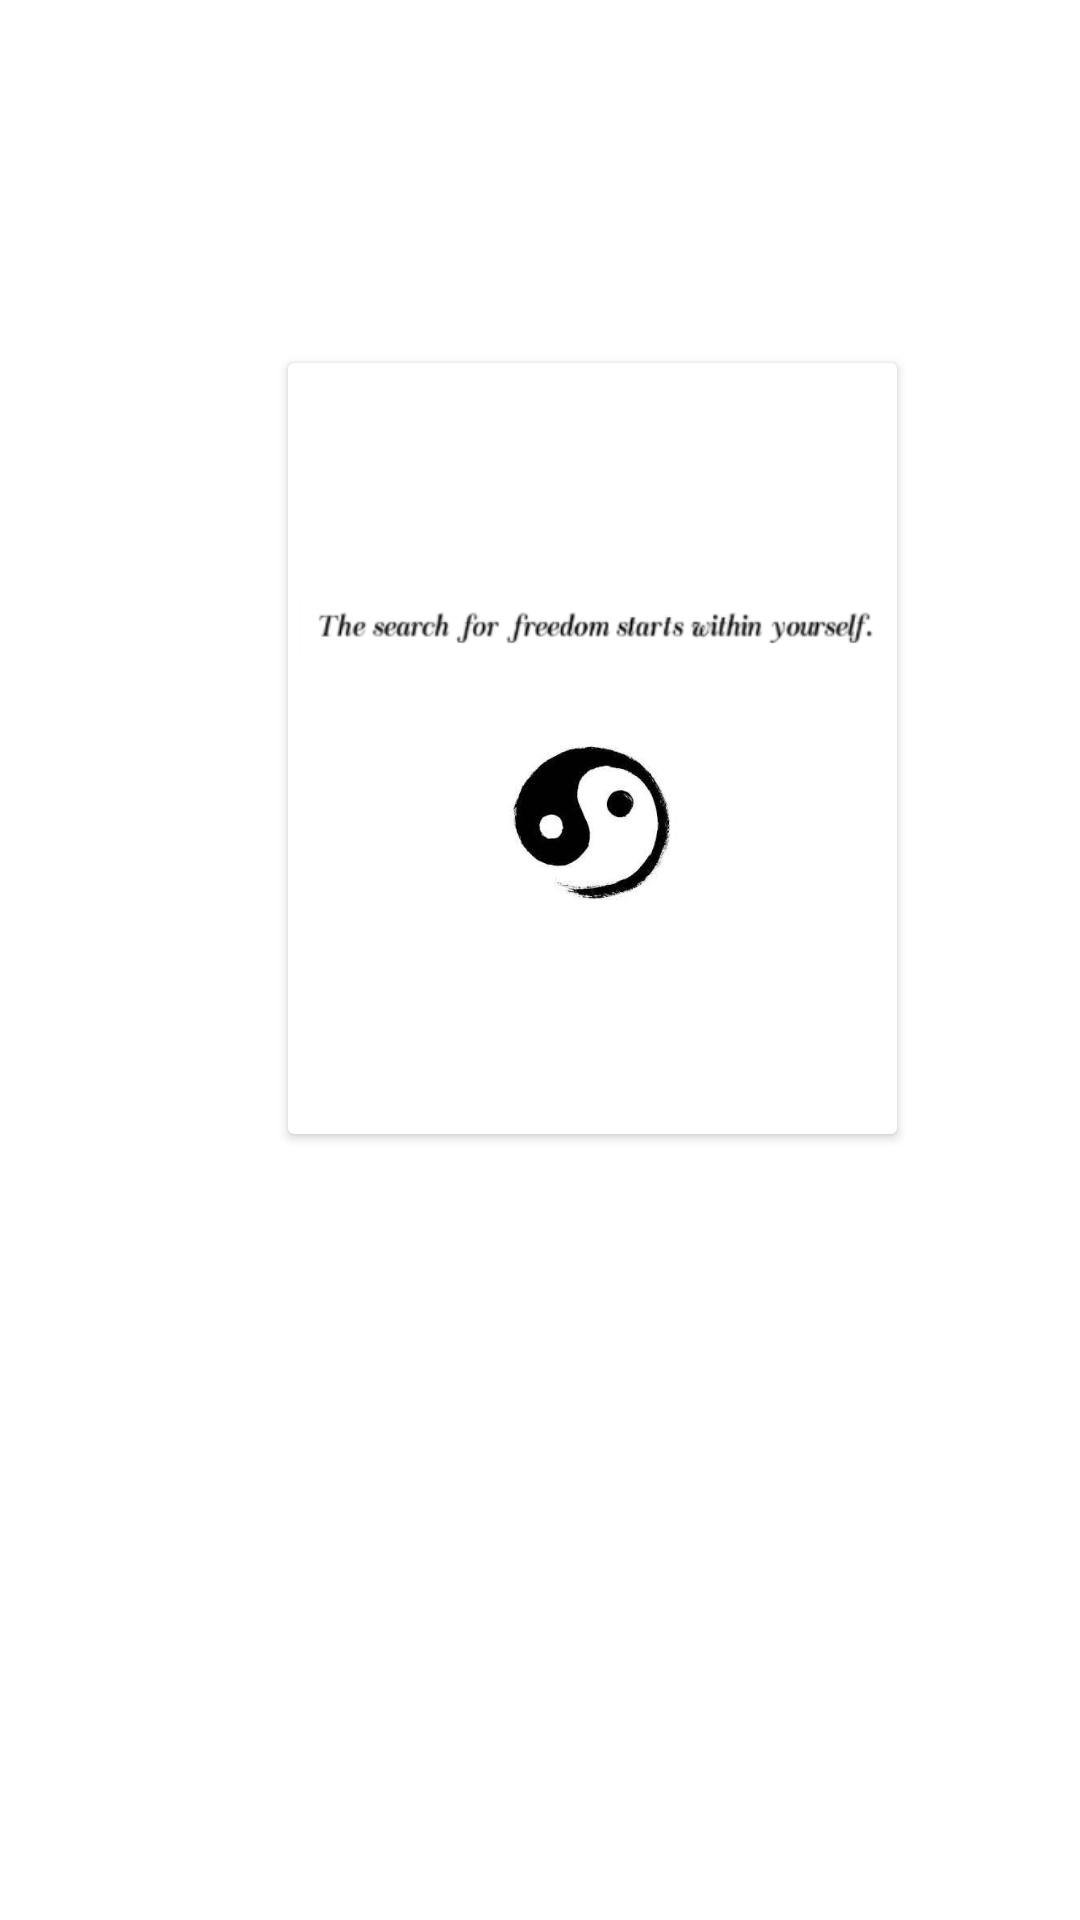

Where icons sit on this 1080 x 1920 app screen, as [left=x1, top=y1, right=x2, bottom=y2]:
ingyang: [left=513, top=746, right=670, bottom=899]
